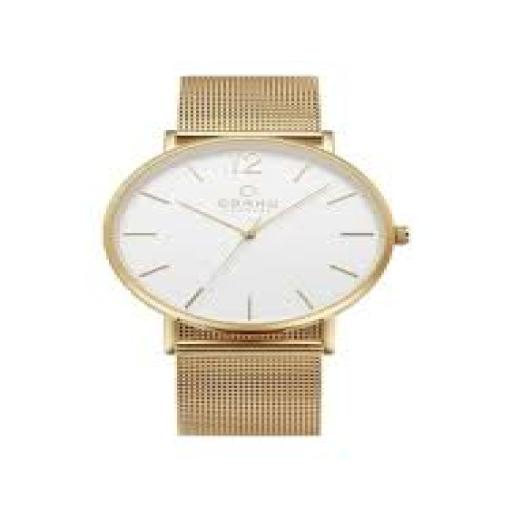KolSaati: (64, 35, 449, 478)
